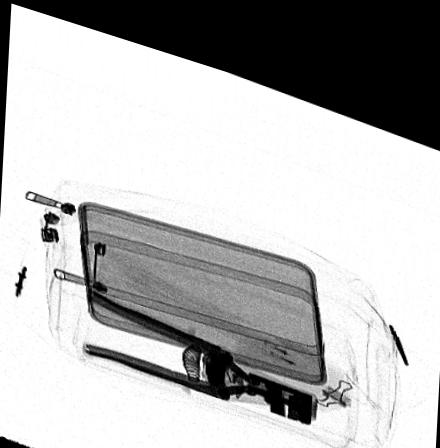Pliers: (85, 283, 312, 404)
